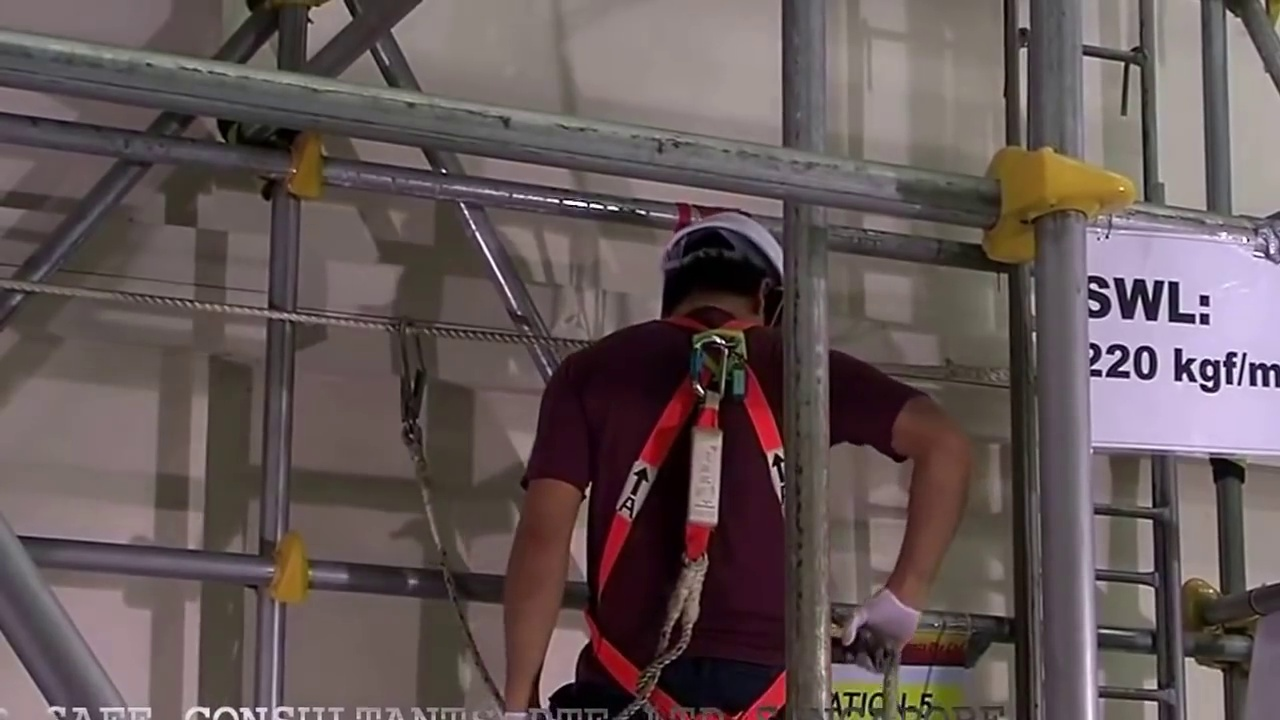harness: (610, 350, 790, 718)
helmet: (669, 213, 782, 263)
hook: (389, 312, 430, 425)
leash: (397, 431, 499, 694)
